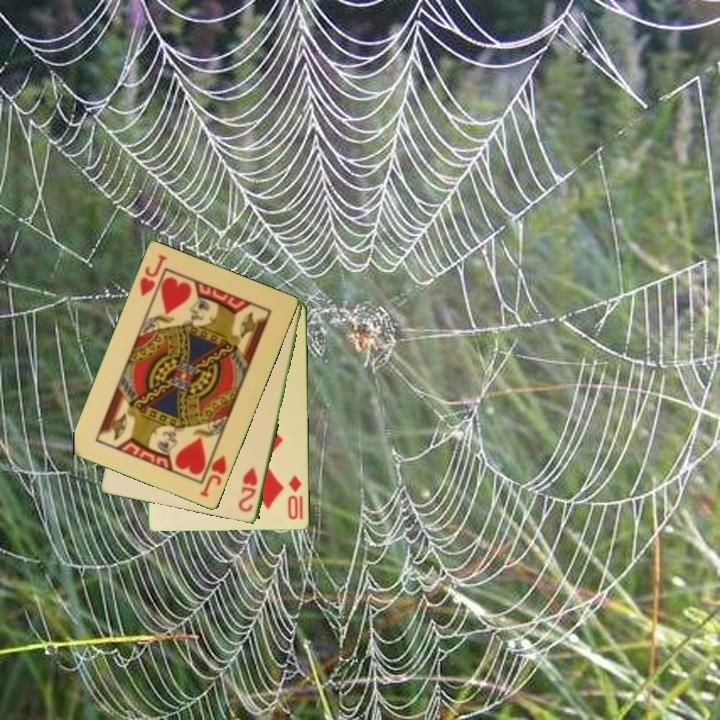10d: (285, 472, 306, 522)
2h: (235, 463, 261, 516)
Jh: (196, 452, 230, 500), (136, 251, 170, 299)
